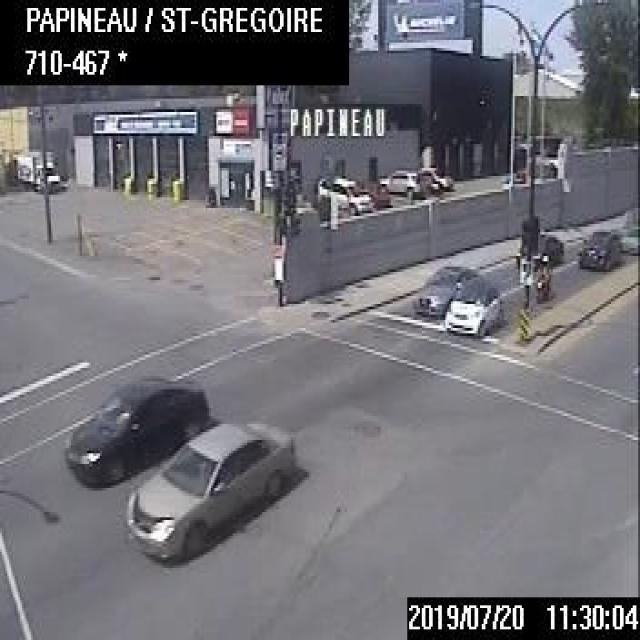vehicle: (119, 411, 297, 563), (62, 370, 209, 490), (408, 260, 476, 322), (441, 274, 502, 337), (313, 170, 374, 218), (10, 146, 62, 195), (578, 213, 621, 270), (514, 229, 564, 264), (372, 165, 419, 198), (406, 163, 455, 191), (530, 249, 552, 305), (362, 178, 389, 205)
